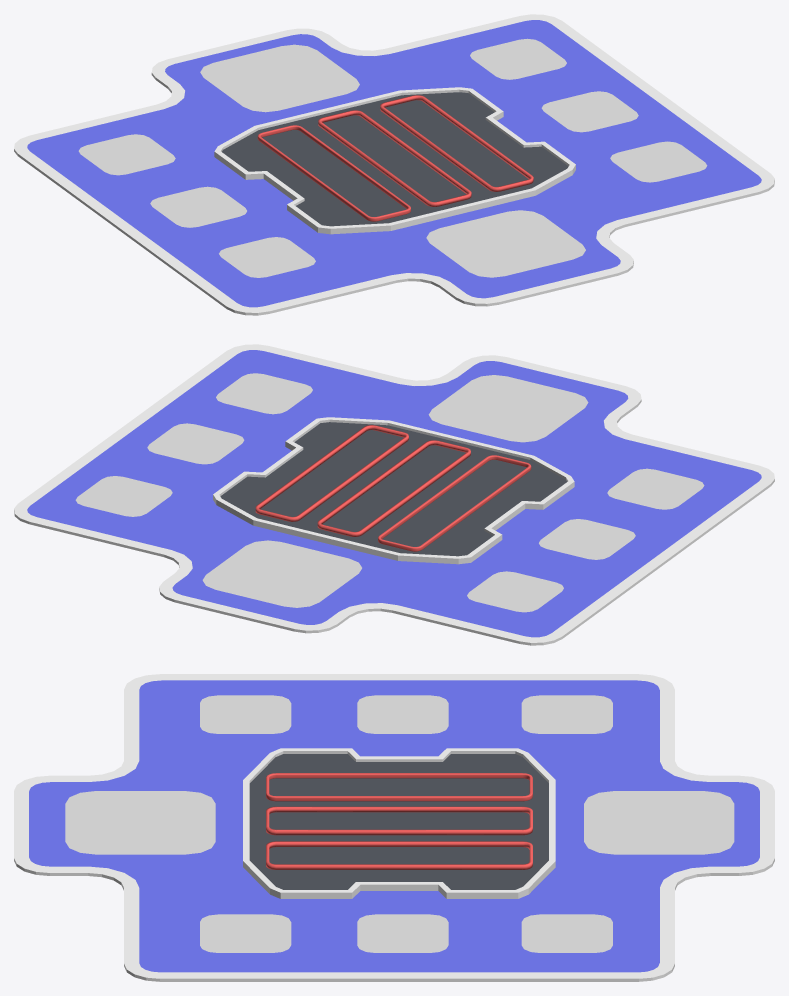
Rendered from Warehouse_L1.fbx.
The picture shows the model from 3 angles, top to bottom: view 1: azimuth 30°, elevation 25°; view 2: azimuth 150°, elevation 25°; view 3: azimuth 270°, elevation 25°; orthographic projection. The views are drawn at different scales.
Visible parts, largest first — view 1: Cube.216, Cube.232, Buy Garbage Box.012, Buy Garbage Box.011, Buy Garbage Box.016, Buy Garbage Box.013, Buy Garbage Box.015, Buy Garbage Box.018, Buy Garbage Box.017, Buy Garbage Box.014, Cube.234, Cube.235 (+1 smaller); view 2: Cube.216, Cube.232, Buy Garbage Box.011, Buy Garbage Box.012, Buy Garbage Box.013, Buy Garbage Box.017, Buy Garbage Box.016, Buy Garbage Box.015, Buy Garbage Box.018, Buy Garbage Box.014, Cube.235, Cube.234 (+1 smaller); view 3: Cube.216, Cube.232, Buy Garbage Box.012, Buy Garbage Box.011, Cube.234, Buy Garbage Box.013, Buy Garbage Box.015, Buy Garbage Box.014, Buy Garbage Box.017, Buy Garbage Box.018, Buy Garbage Box.016, Cube.235 (+1 smaller).
Boxes of the visible parts, box(x1,y1,x2,y2) form: Cube.216: box(14, 14, 774, 315); Cube.232: box(214, 87, 575, 234); Buy Garbage Box.012: box(426, 210, 585, 277); Buy Garbage Box.011: box(200, 44, 359, 112); Buy Garbage Box.016: box(610, 141, 707, 182); Buy Garbage Box.013: box(219, 237, 315, 277); Buy Garbage Box.015: box(78, 134, 175, 175); Buy Garbage Box.018: box(470, 38, 566, 79); Buy Garbage Box.017: box(541, 91, 638, 132); Buy Garbage Box.014: box(150, 186, 246, 227); Cube.234: box(318, 110, 471, 206); Cube.235: box(380, 95, 533, 191); Cube.216: box(14, 344, 774, 645); Cube.232: box(213, 417, 574, 564); Buy Garbage Box.011: box(202, 540, 361, 607); Buy Garbage Box.012: box(428, 375, 588, 442); Buy Garbage Box.013: box(607, 468, 704, 509); Buy Garbage Box.017: box(147, 423, 244, 464); Buy Garbage Box.016: box(216, 373, 312, 414); Buy Garbage Box.015: box(467, 571, 563, 612); Buy Garbage Box.018: box(75, 476, 172, 516); Buy Garbage Box.014: box(539, 519, 635, 559); Cube.235: box(255, 425, 408, 521); Cube.234: box(317, 440, 470, 536); Cube.216: box(14, 674, 774, 981); Cube.232: box(243, 748, 555, 898); Buy Garbage Box.012: box(65, 791, 215, 854); Buy Garbage Box.011: box(584, 791, 734, 854); Cube.234: box(266, 806, 532, 835); Buy Garbage Box.013: box(200, 695, 291, 733); Buy Garbage Box.015: box(521, 695, 612, 733); Buy Garbage Box.014: box(357, 695, 448, 733); Buy Garbage Box.017: box(357, 914, 448, 952); Buy Garbage Box.018: box(521, 914, 612, 952); Buy Garbage Box.016: box(200, 914, 291, 952); Cube.235: box(266, 841, 532, 869).
Size of the model in its own units: 2160 by 36.3 by 2280.
